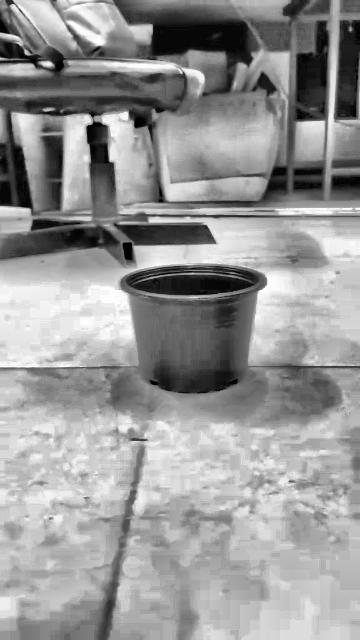pot: (120, 264, 265, 394)
